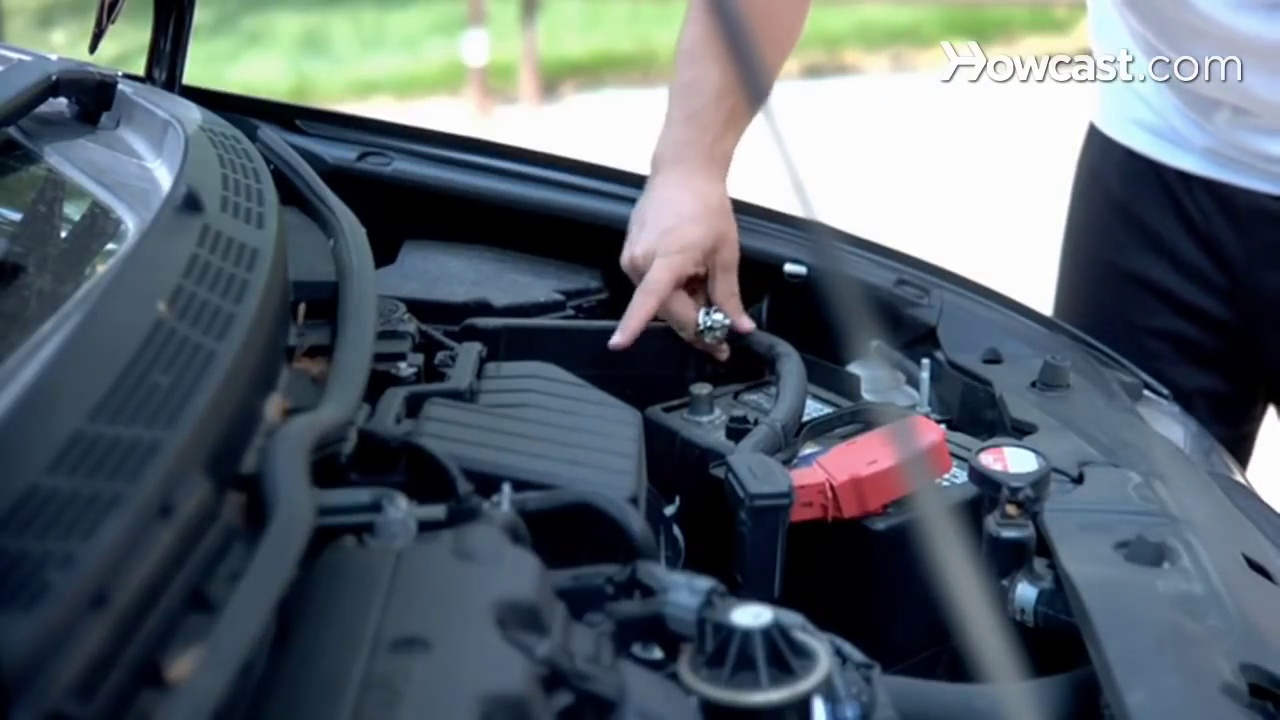battery: (654, 358, 994, 531)
neg_disconnected: (670, 295, 749, 422)
pos_connected: (790, 421, 960, 524)
